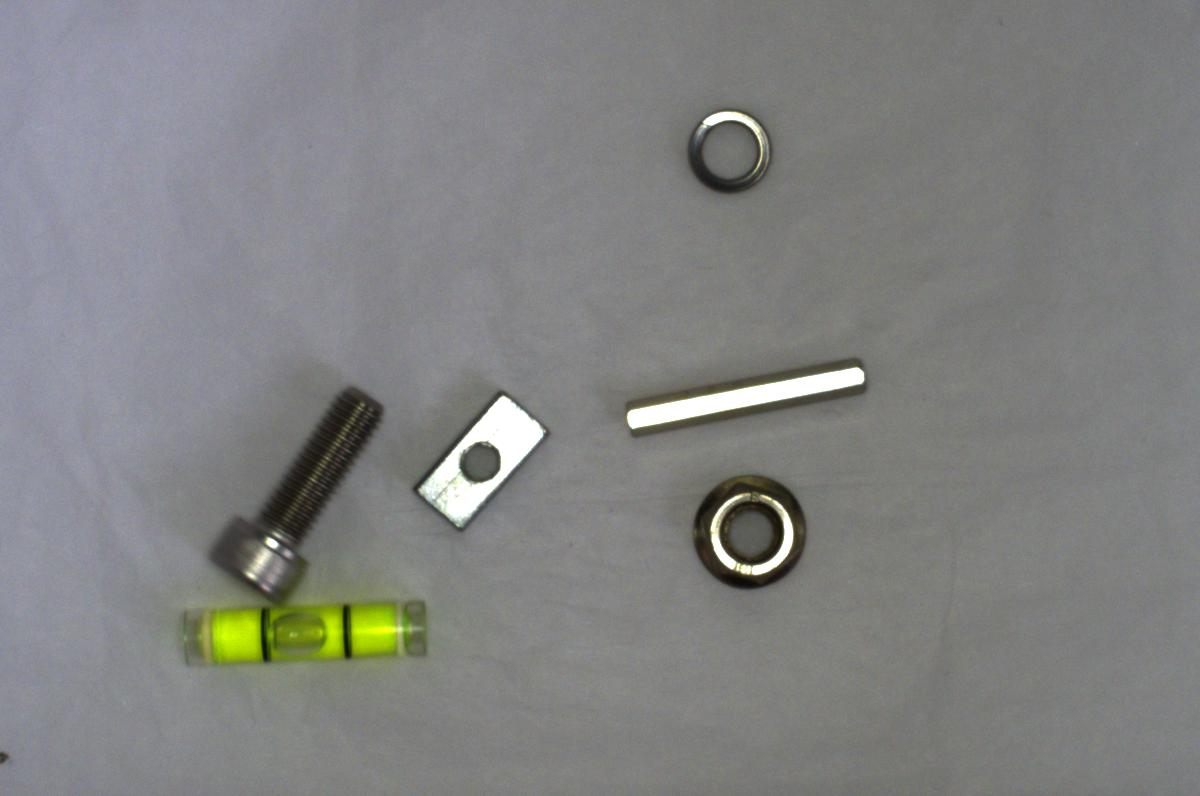Double hexagonal column: (617, 353, 868, 438)
Flange nut: (688, 467, 814, 593)
Hexagon screw: (202, 375, 386, 607)
Horizontal bubble: (167, 596, 441, 672)
Rectangular nut: (402, 385, 551, 540)
Spring washer: (674, 99, 786, 195)
